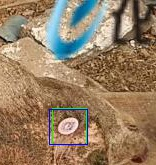text: (52, 108, 86, 144)
